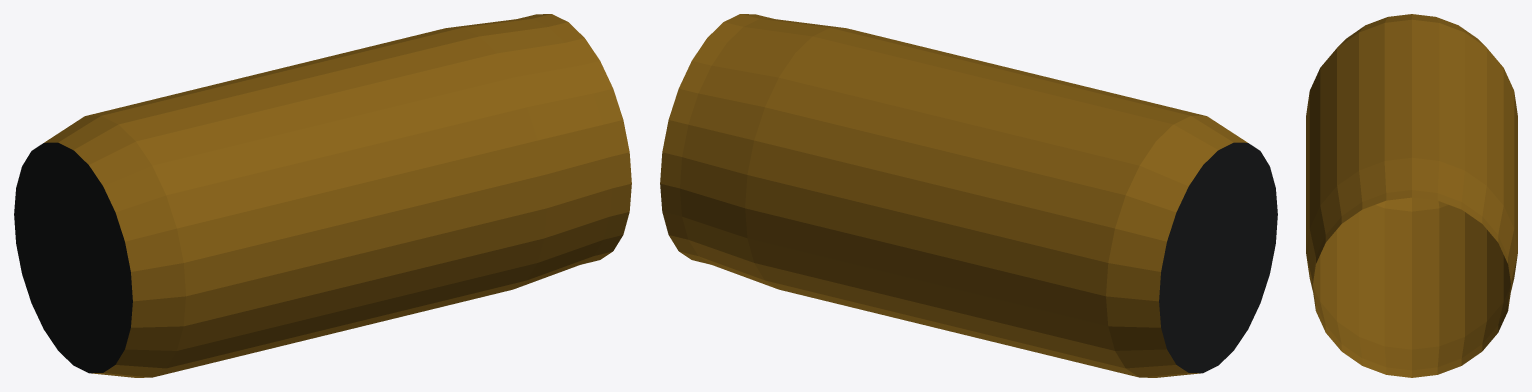
Rendered from handgun_spent_casing_1995.obj.
3 views of the same model, side by side, from view 1: azimuth 30°, elevation 25°; view 2: azimuth 150°, elevation 25°; view 3: azimuth 270°, elevation 25° (orthographic). The views are drawn at different scales.
Visible parts, largest first — view 1: casing_shell, primer_base; view 2: casing_shell, primer_base; view 3: casing_shell.
Part boxes in pixels (x1,y1,x2,y2): casing_shell: (44, 14, 631, 377); primer_base: (14, 142, 132, 373); casing_shell: (660, 14, 1247, 377); primer_base: (1159, 142, 1277, 373); casing_shell: (1306, 14, 1517, 377).
Bounding box in the file's own units: 2.2 × 1.04 × 1.04.
